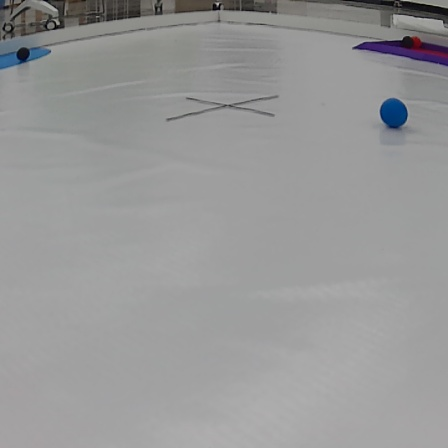black: (17, 50, 30, 61), (401, 37, 411, 47)
blue: (378, 96, 408, 132)
blue_base: (0, 41, 48, 71)
red: (410, 37, 422, 50)
red_aim: (360, 30, 448, 66)
